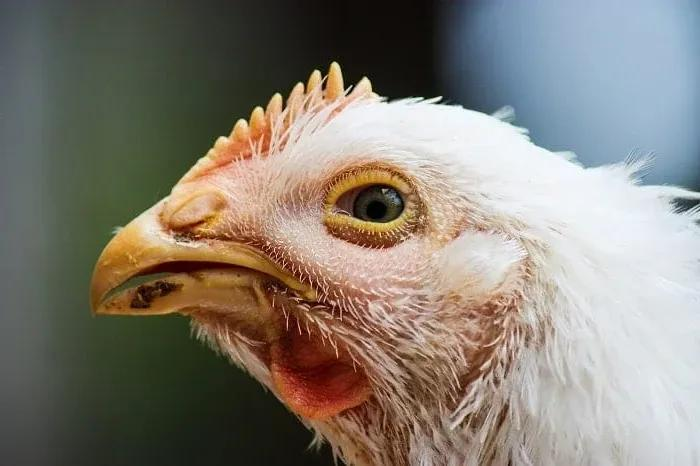AbNormal: (182, 62, 373, 195)
